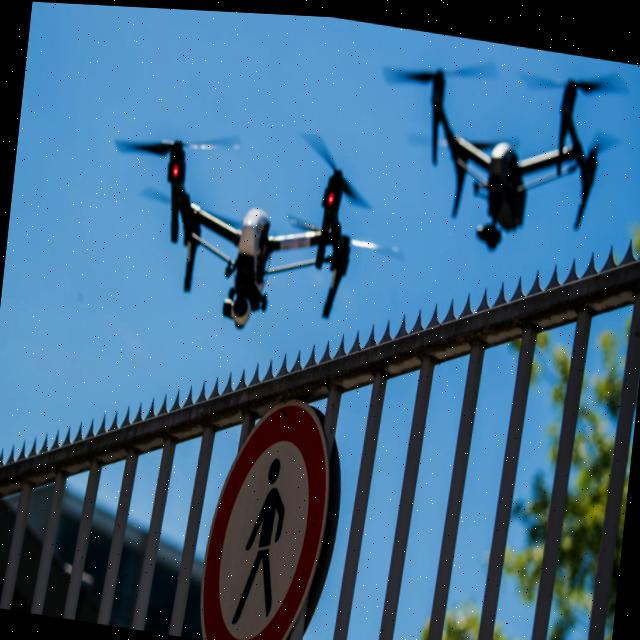drone: (0, 474, 618, 640), (87, 70, 424, 368)
